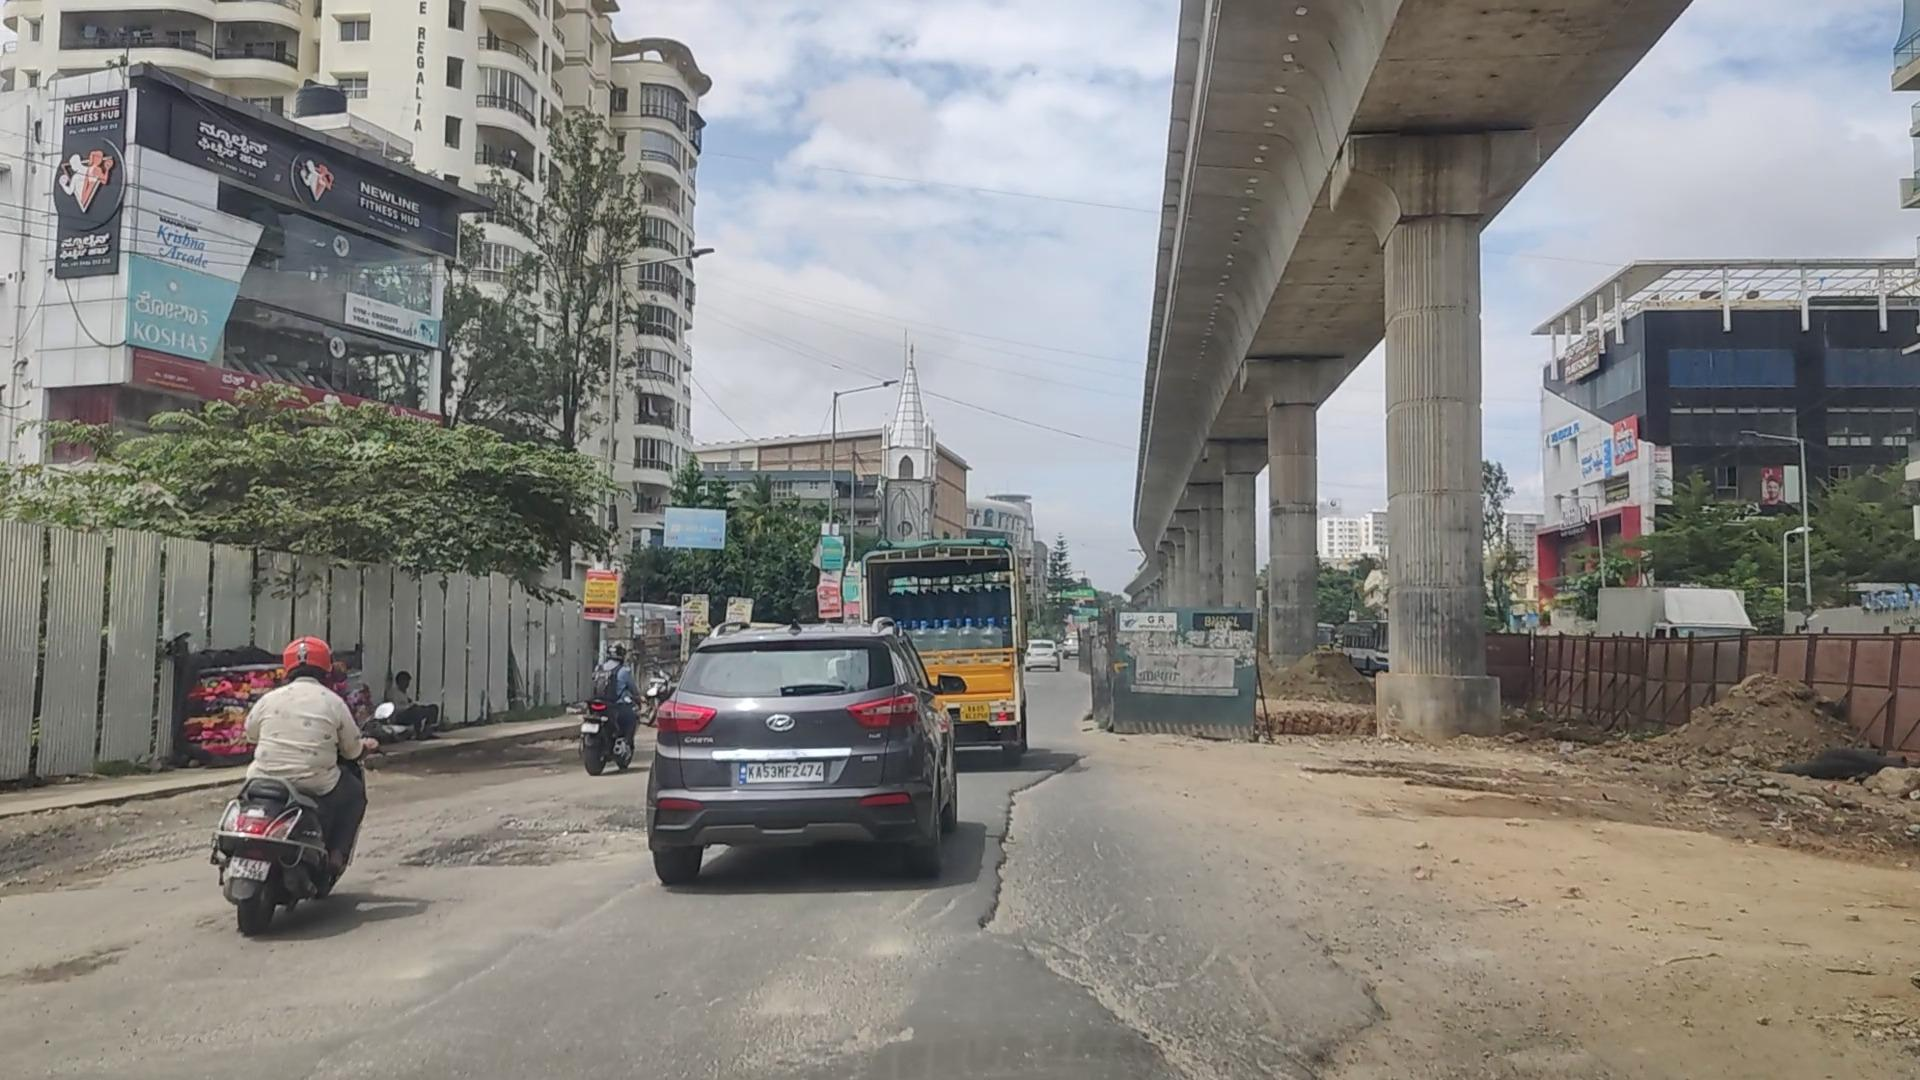LMV: (651, 625, 959, 890), (231, 632, 355, 943)
RoadDamages: (1027, 924, 1179, 1080), (972, 806, 1071, 920), (541, 794, 633, 862), (443, 804, 529, 868), (1005, 758, 1093, 804)
